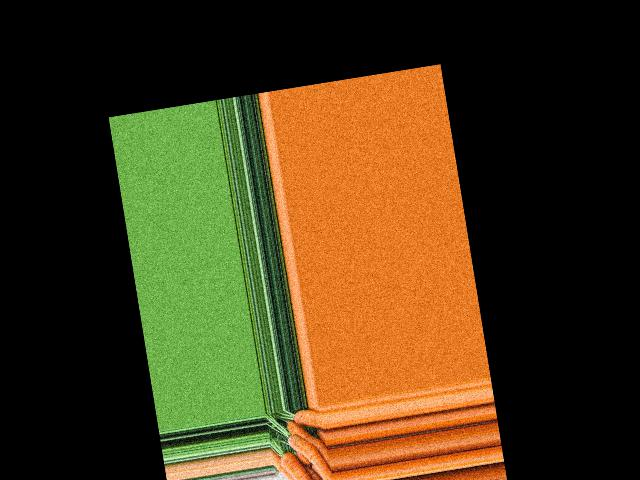carrot: (288, 404, 323, 432)
